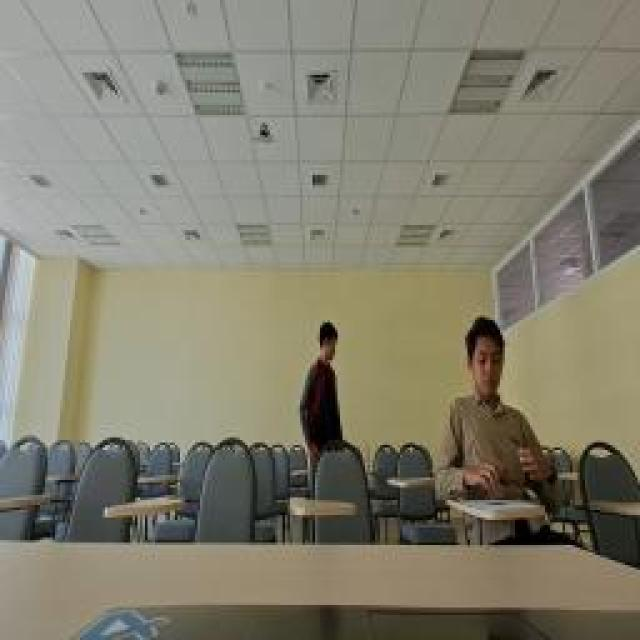study: (435, 320, 545, 498)
